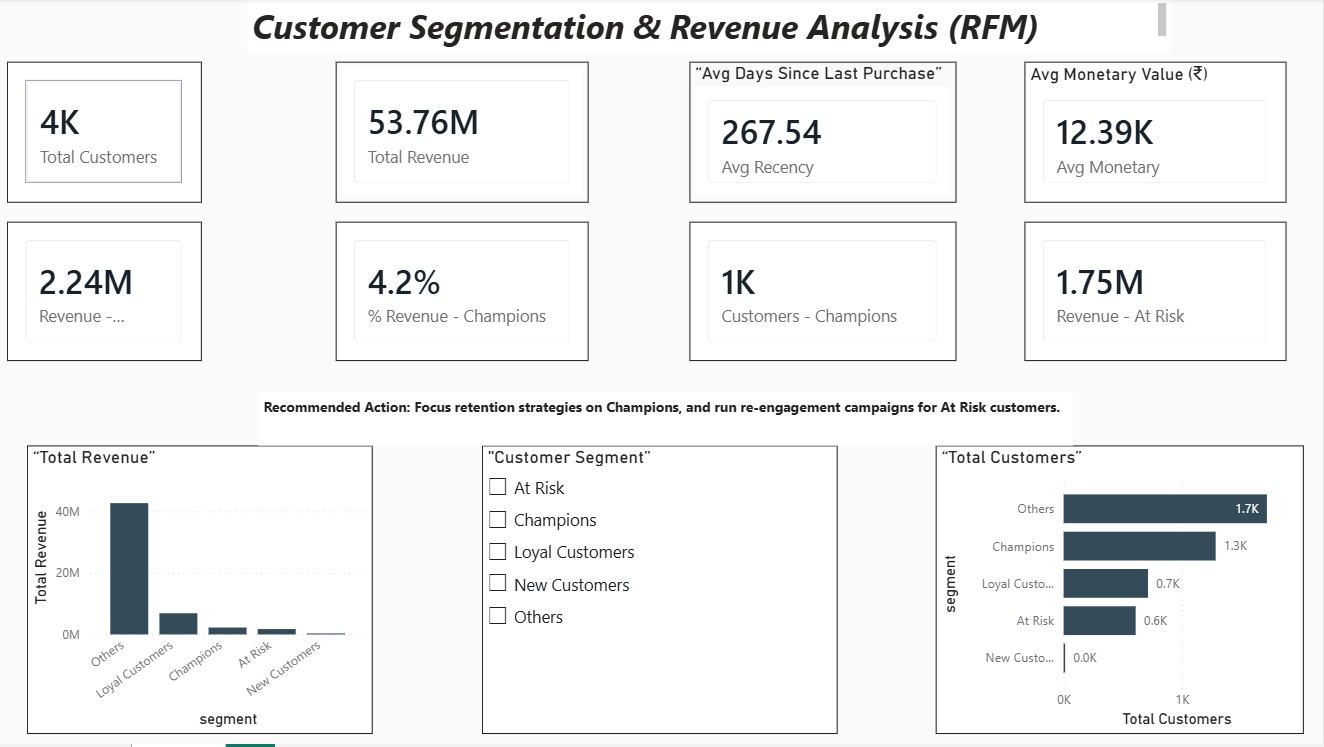

The page's visual inventory and layout, read from the dashboard file:
{"tool":"powerbi","page":{"name":"Page 1","canvas":[1280,720],"ordinal":0},"visuals":[{"type":"cardVisual","fields":{"Data":["rfm_segments.Total Customers"]},"box":[9.6,61.7,188,135.8],"z":0},{"type":"cardVisual","fields":{"Data":["rfm_segments.Total Revenue"]},"box":[326.6,61.7,244.3,135.8],"z":1000},{"type":"cardVisual","title":"“Avg Days Since Last Purchase”","fields":{"Data":["rfm_segments.Avg Recency"]},"box":[668.3,61.7,258,135.8],"z":2000},{"type":"cardVisual","title":"Avg Monetary Value (₹)","fields":{"Data":["rfm_segments.Avg Monetary"]},"box":[992.1,61.7,252.5,135.8],"z":3000},{"type":"clusteredColumnChart","title":"“Total Revenue”","fields":{"Category":["rfm_segments.segment"],"Y":["rfm_segments.Total Revenue"]},"box":[28.8,432.2,333.4,278.6],"z":4000},{"type":"clusteredBarChart","title":"“Total Customers”","fields":{"Category":["rfm_segments.segment"],"Y":["rfm_segments.Total Customers"]},"box":[905.7,432.2,355.4,278.6],"z":5000},{"type":"listSlicer","title":"\"Customer Segment”","fields":{"Values":["rfm_segments.segment"]},"box":[467.9,432.2,343.1,278.6],"z":6000},{"type":"textbox","box":[252.5,380.1,786.3,52.1],"z":9000},{"type":"textbox","box":[241.5,0,891.9,53.5],"z":10000},{"type":"cardVisual","fields":{"Data":["rfm_segments.Revenue - At Risk"]},"box":[992.1,215.4,252.5,134.5],"z":11000},{"type":"cardVisual","fields":{"Data":["rfm_segments.Revenue - Champions"]},"box":[9.6,215.4,188,134.5],"z":12000},{"type":"cardVisual","fields":{"Data":["rfm_segments.Customers - Champions"]},"box":[668.3,215.4,258,134.5],"z":13000},{"type":"cardVisual","fields":{"Data":["rfm_segments.% Revenue - Champions"]},"box":[326.6,215.4,244.3,134.5],"z":14000}]}

Visuals, with their boxes in screenshot pixels (x1, y1, x2, y2), scaled from the page's 1280x720 canvas onto the 1324x747 screenshot:
cardVisual - rfm_segments.Total Customers: box=[10, 64, 204, 205]
cardVisual - rfm_segments.Total Revenue: box=[338, 64, 591, 205]
"“Avg Days Since Last Purchase”" cardVisual: box=[691, 64, 958, 205]
"Avg Monetary Value (₹)" cardVisual: box=[1026, 64, 1287, 205]
"“Total Revenue”" clusteredColumnChart: box=[30, 448, 375, 737]
"“Total Customers”" clusteredBarChart: box=[937, 448, 1304, 737]
""Customer Segment”" listSlicer: box=[484, 448, 839, 737]
textbox: box=[261, 394, 1075, 448]
textbox: box=[250, 0, 1172, 56]
cardVisual - rfm_segments.Revenue - At Risk: box=[1026, 223, 1287, 363]
cardVisual - rfm_segments.Revenue - Champions: box=[10, 223, 204, 363]
cardVisual - rfm_segments.Customers - Champions: box=[691, 223, 958, 363]
cardVisual - rfm_segments.% Revenue - Champions: box=[338, 223, 591, 363]
